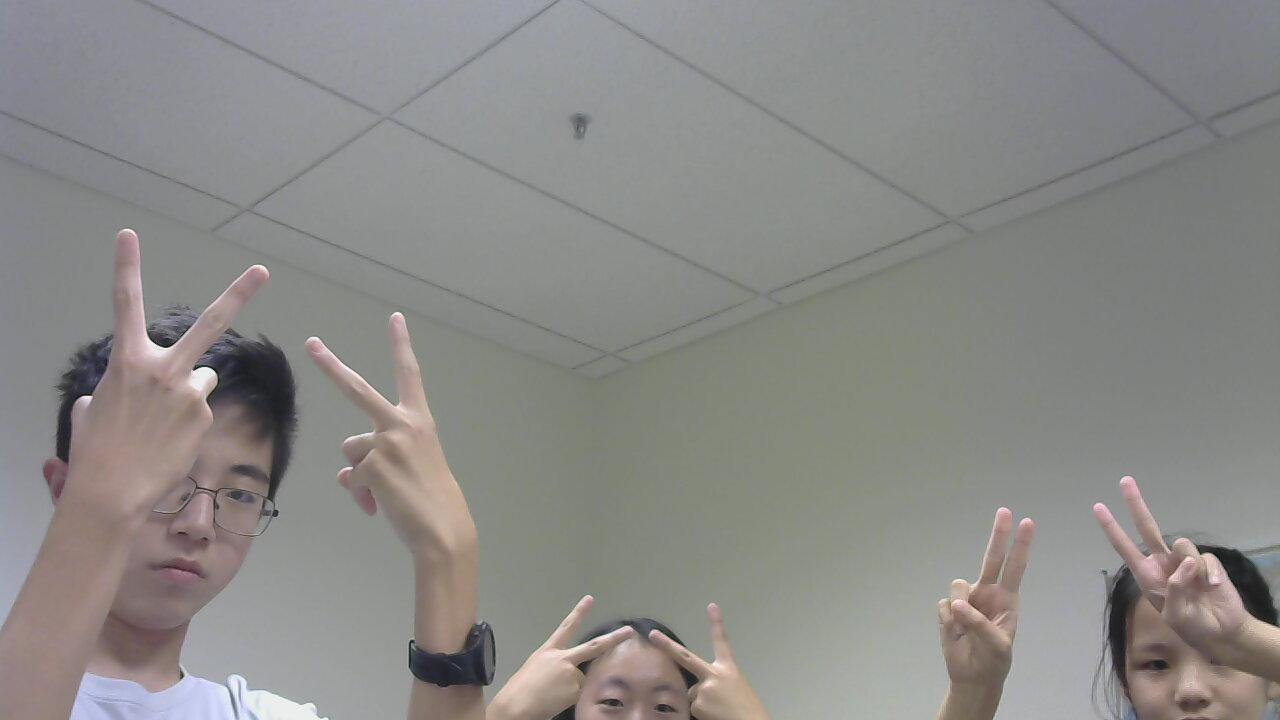peace: (68, 227, 274, 544), (291, 294, 502, 589), (1085, 481, 1280, 682), (921, 499, 1045, 704), (483, 592, 644, 720), (633, 594, 787, 720)
